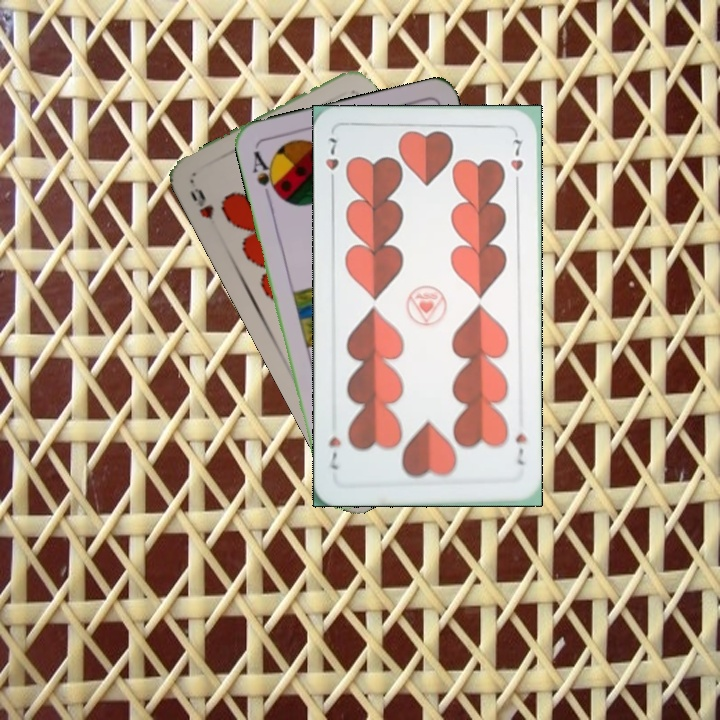H7: (322, 134, 341, 190), (511, 429, 529, 467)
H9: (186, 184, 217, 222)
SA: (249, 146, 282, 204)
